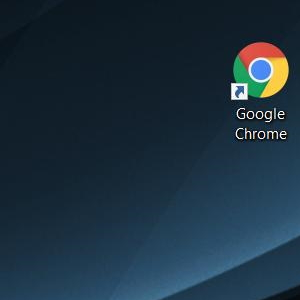chrome: (230, 42, 288, 99)
